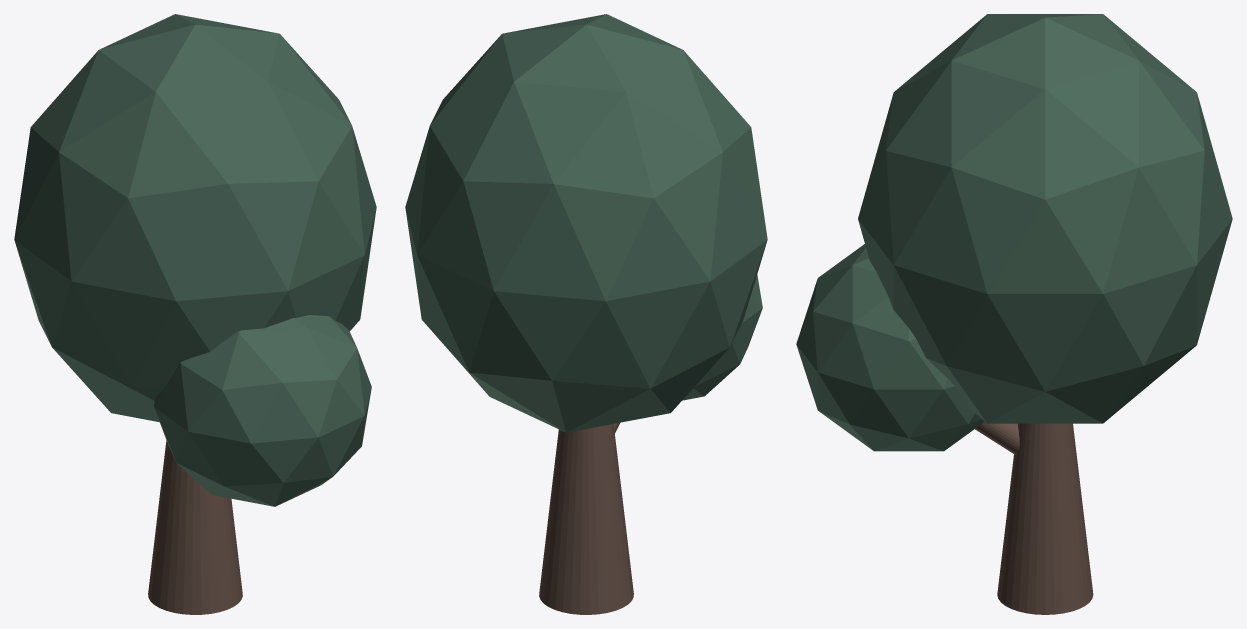
The model's file is Tree 1.fbx.
3 views of the same model, side by side, from view 1: azimuth 30°, elevation 25°; view 2: azimuth 150°, elevation 25°; view 3: azimuth 270°, elevation 25° (orthographic).
Parts seen in each view (by area): view 1: Icosphere.001, Cone; view 2: Icosphere.001, Cone; view 3: Icosphere.001, Cone.
Part boxes in pixels (x1,y1,x2,y2): Icosphere.001: (14,14,376,506); Cone: (148,440,242,614); Icosphere.001: (405,14,767,432); Cone: (539,422,633,614); Icosphere.001: (796,14,1232,451); Cone: (975,422,1093,614).
Size of the model in its own units: 742 by 1325 by 908.
